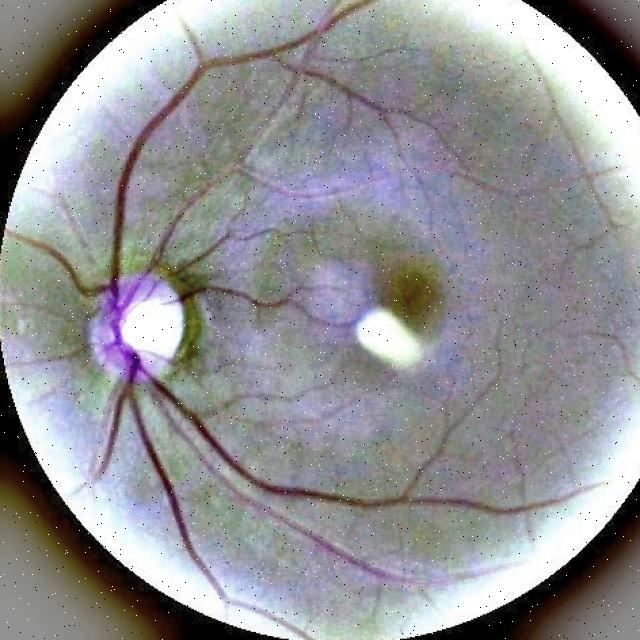Macula: (392, 264, 439, 328)
Nerves: (7, 0, 605, 602)
Optic Disk: (91, 274, 186, 380)
